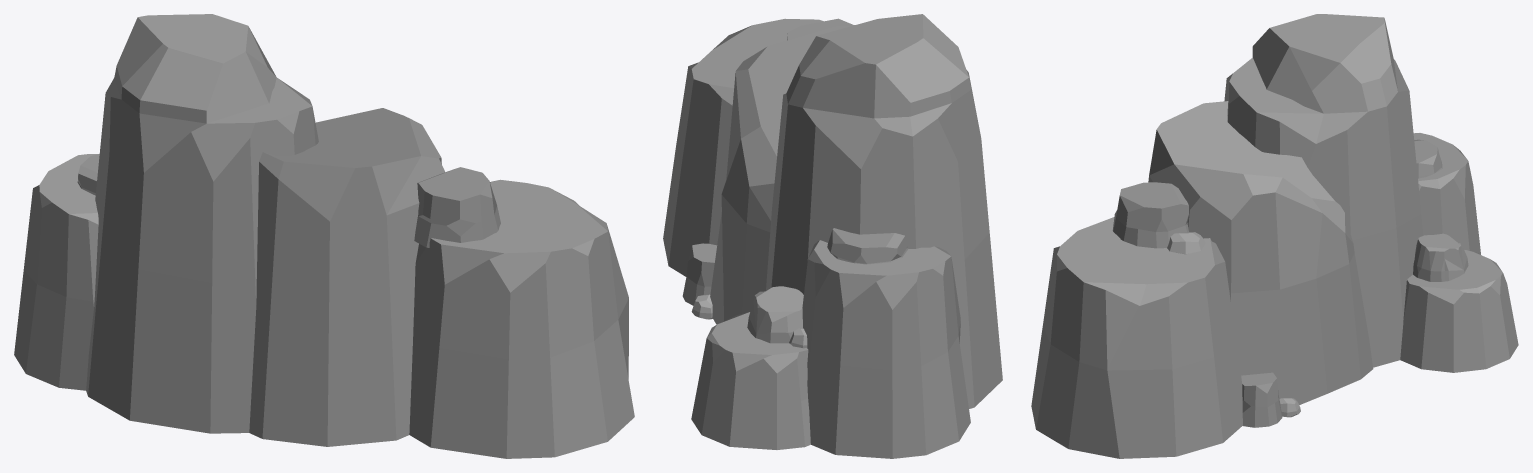
File: Mountain3.fbx
The picture shows the model from 3 angles, left to right: view 1: azimuth 30°, elevation 25°; view 2: azimuth 150°, elevation 25°; view 3: azimuth 270°, elevation 25°; orthographic projection. The views are drawn at different scales.
Visible parts, largest first — view 1: Circle.006, Circle.065, Circle.008, Circle.010, Circle.063, Circle.064; view 2: Circle.006, Circle.010, Circle.065, Circle.008, Circle.009, Circle.007, Circle.064, Circle.024, Circle.063, Cube.130; view 3: Circle.008, Circle.065, Circle.006, Circle.009, Circle.010, Circle.063, Circle.007, Circle.024, Circle.064, Cube.043.
Boxes of the visible parts, left/top/right/bottom form: Circle.006: left=86, top=14, right=318, bottom=433; Circle.065: left=249, top=108, right=444, bottom=446; Circle.008: left=409, top=179, right=634, bottom=458; Circle.010: left=14, top=154, right=98, bottom=390; Circle.063: left=414, top=167, right=500, bottom=247; Circle.064: left=77, top=154, right=99, bottom=195; Circle.006: left=766, top=14, right=1002, bottom=408; Circle.010: left=802, top=240, right=970, bottom=458; Circle.065: left=710, top=25, right=854, bottom=324; Circle.008: left=663, top=18, right=823, bottom=276; Circle.009: left=691, top=312, right=810, bottom=449; Circle.007: left=747, top=286, right=803, bottom=343; Circle.064: left=827, top=228, right=908, bottom=264; Circle.024: left=682, top=243, right=717, bottom=305; Circle.063: left=787, top=18, right=852, bottom=40; Cube.130: left=691, top=294, right=712, bottom=319; Circle.008: left=1031, top=217, right=1242, bottom=458; Circle.065: left=1148, top=101, right=1373, bottom=404; Circle.006: left=1224, top=14, right=1423, bottom=367; Circle.009: left=1400, top=250, right=1518, bottom=372; Circle.010: left=1413, top=133, right=1480, bottom=254; Circle.063: left=1112, top=182, right=1188, bottom=248; Circle.007: left=1413, top=233, right=1468, bottom=281; Circle.024: left=1241, top=372, right=1282, bottom=427; Circle.064: left=1414, top=139, right=1442, bottom=178; Cube.043: left=1167, top=232, right=1205, bottom=254.
Size of the model in its own units: 42.97 by 47.92 by 32.81.
